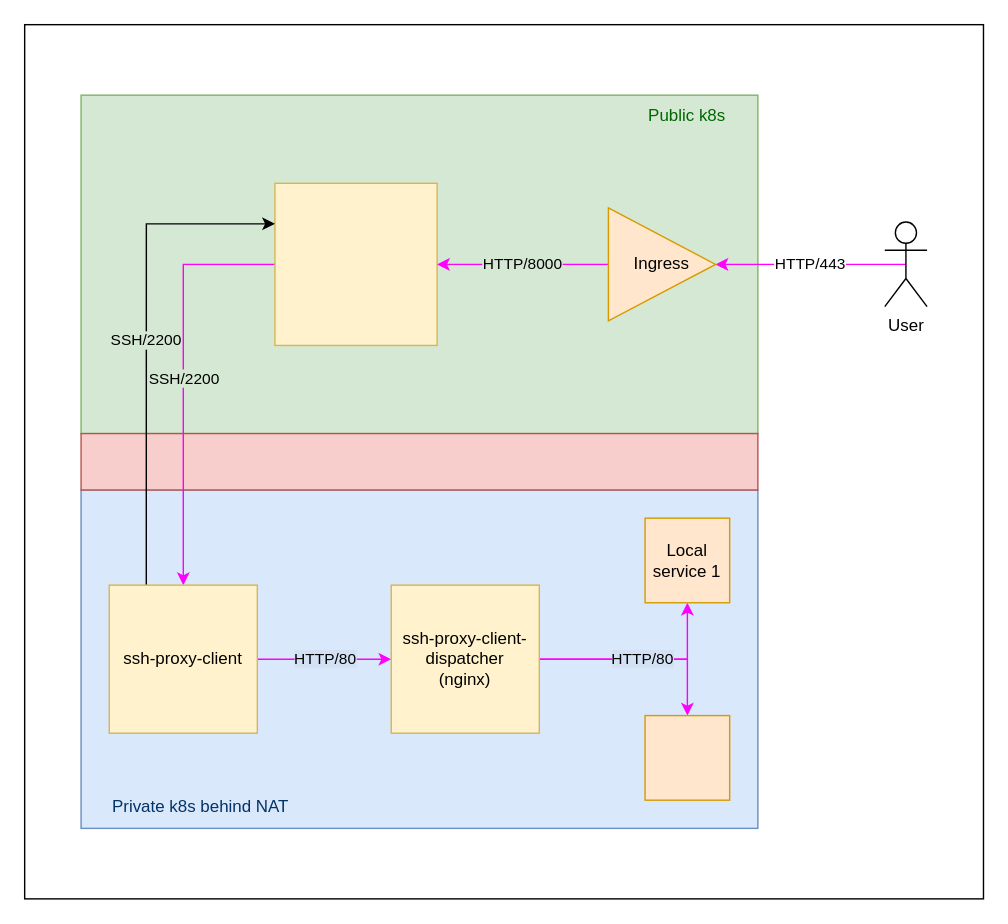
Image size: 1008x924. Some labels were removed from this diagram. The shapes that lost their labels are listed below. From the top down, each one's centre as x and y in pixels, then its label:
[355,263]: ssh-proxy-server
[419,461]: Internet
[687,757]: Local service 2
